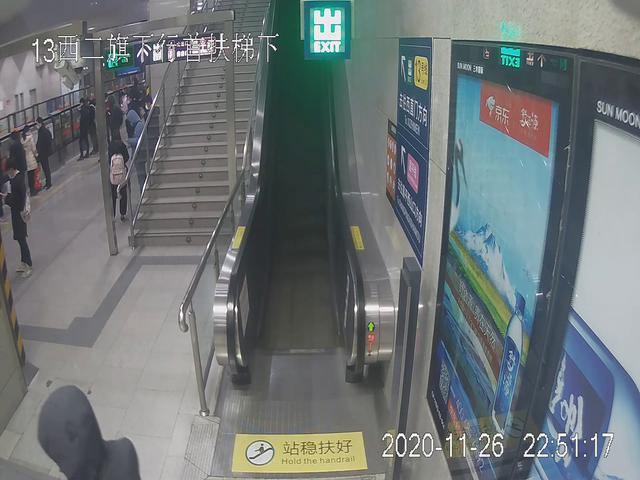person: (2, 157, 31, 284), (126, 111, 151, 196), (106, 127, 129, 219), (19, 119, 38, 193), (36, 114, 53, 190)
